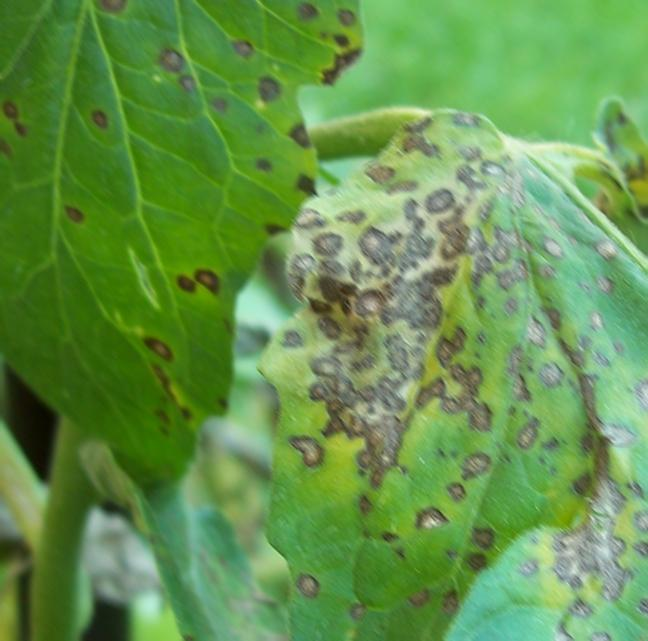Tomato Septoria leaf spot: (0, 0, 394, 514), (287, 104, 648, 641)
